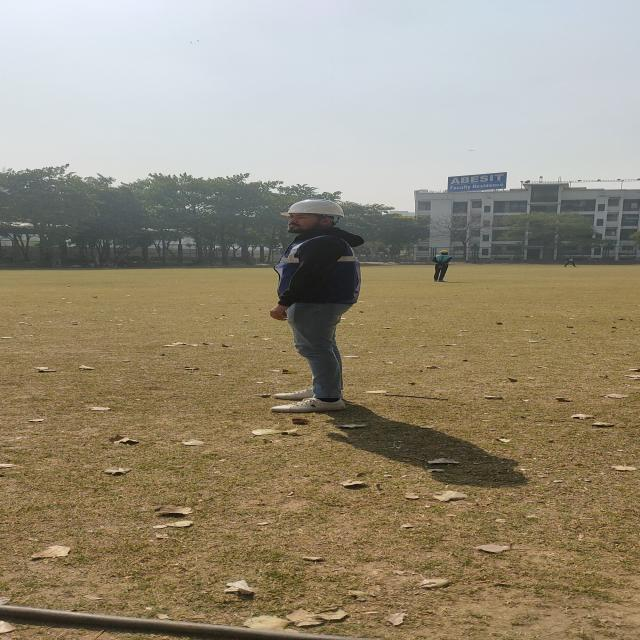safe: (271, 199, 361, 412)
unsafe: (433, 250, 452, 282)
